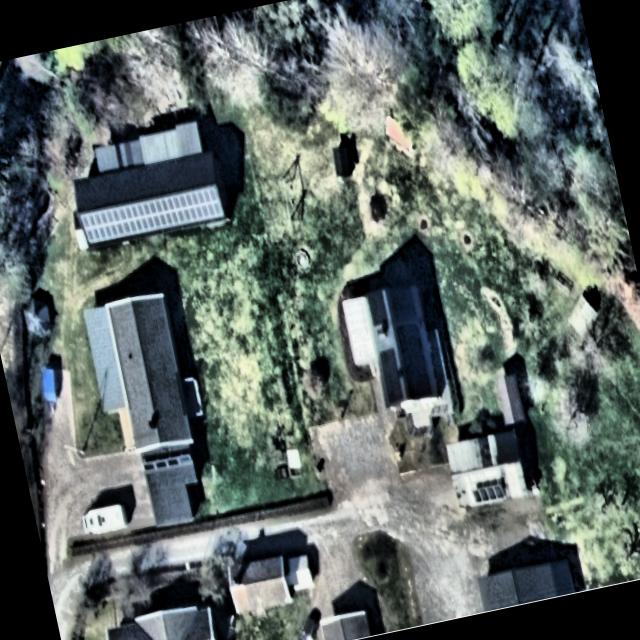roof_pv: (82, 187, 222, 244), (382, 281, 434, 404), (374, 344, 406, 407)
